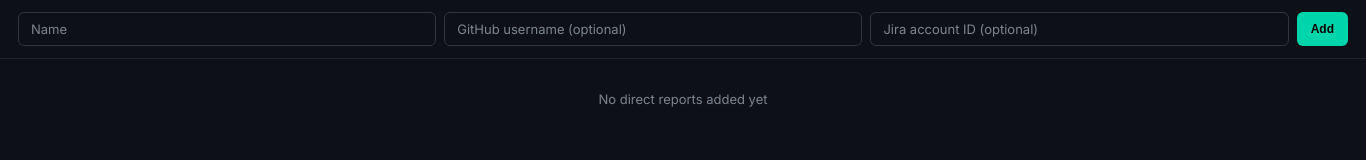
Test: ReportsManager › adds a report, persisting it via save() while preserving existing todos/priorityOverrides
The image size is (1366, 160).
Expected: the text "No direct reports added yet" is shown, [598,91,768,107]
In the field with placeholder "Name": [227, 29] box [18,12,436,46], type "Priya Sharma"
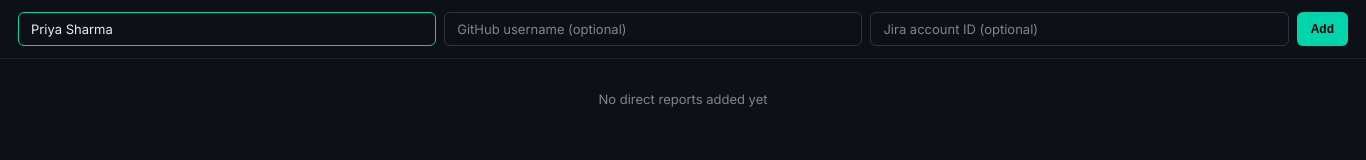
In the field with placeholder "GitHub username (optional)": [653, 29] box [444,12,862,46], type "psharma"
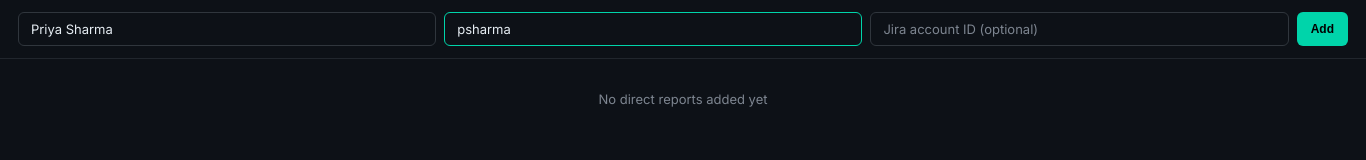
Click the button "Add": [1322, 29] box [1297,12,1348,46]
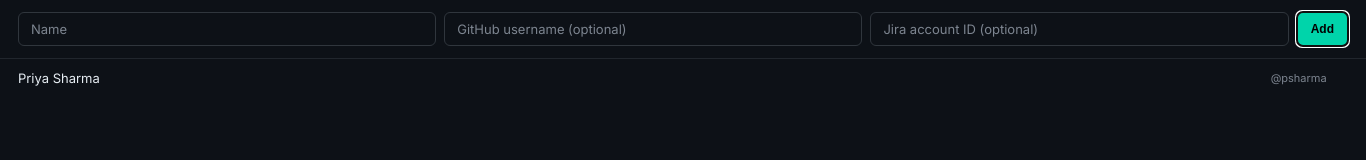
Expected: the text "Priya Sharma" is shown, [18,70,100,86]
